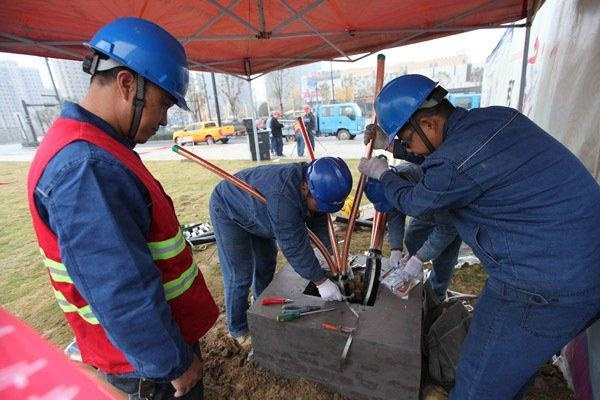blue: (77, 15, 193, 144), (369, 71, 451, 159), (297, 153, 353, 214)
